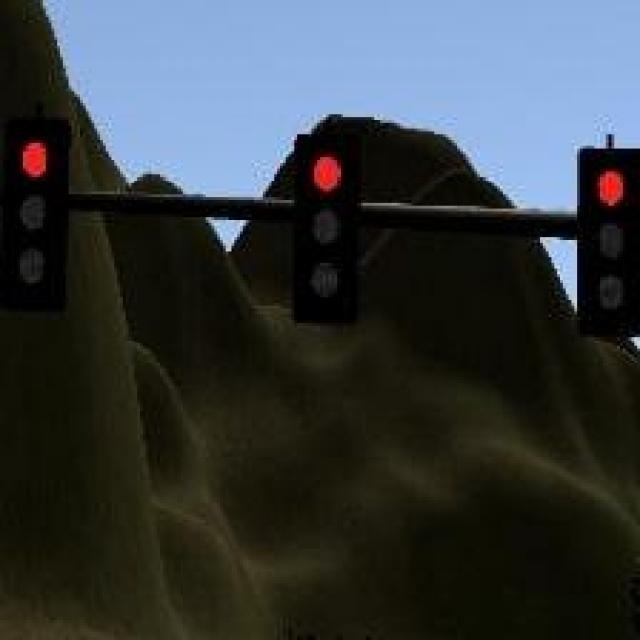red_light: (3, 117, 68, 314), (297, 137, 362, 326), (580, 146, 640, 338)
